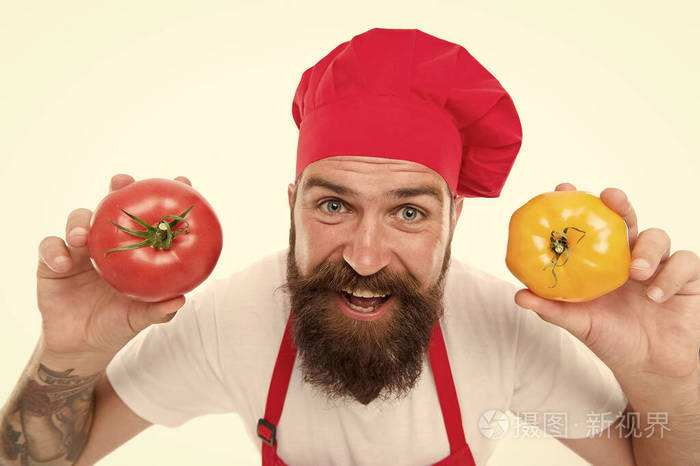no-phone: (504, 178, 699, 382), (31, 172, 227, 359)
